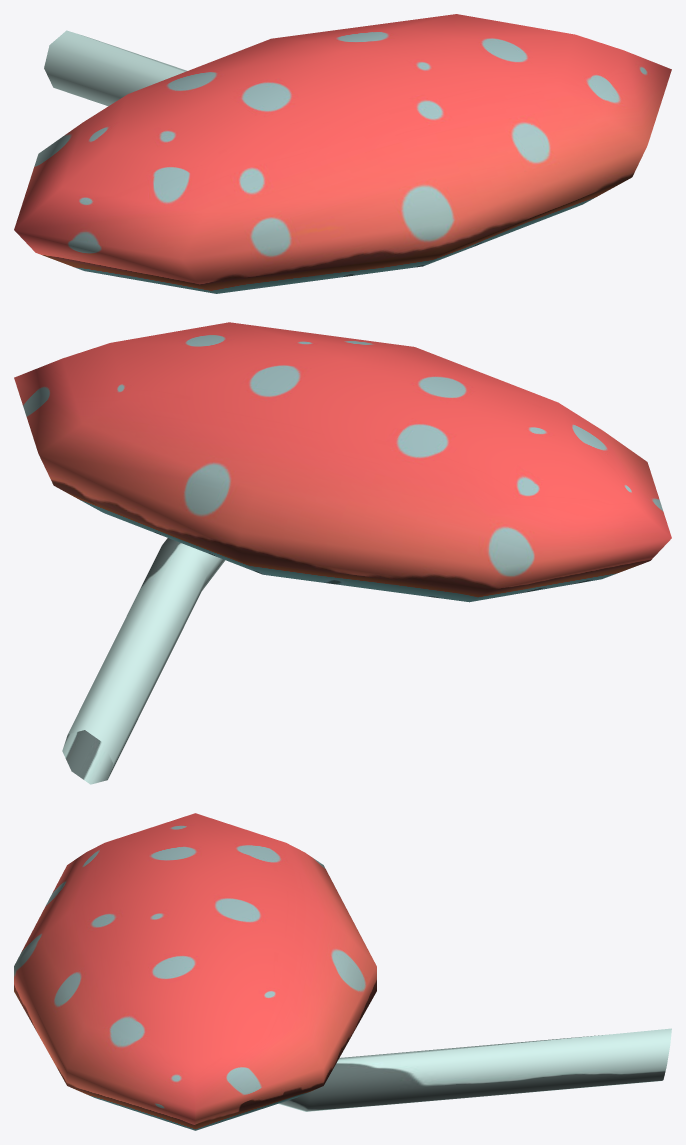
Rendered from pedraCogumelo.FBX.
The picture shows the model from 3 angles, top to bottom: view 1: azimuth 30°, elevation 25°; view 2: azimuth 150°, elevation 25°; view 3: azimuth 270°, elevation 25°; orthographic projection. The views are drawn at different scales.
Visible parts, largest first — view 1: Mesh; view 2: Mesh; view 3: Mesh.
Boxes of the visible parts, x1,y1,x2,y2 form: Mesh: [14, 14, 671, 293]; Mesh: [14, 322, 671, 784]; Mesh: [14, 813, 671, 1130].
Bounding box in the file's own units: 32.04 × 10.75 × 31.12.
